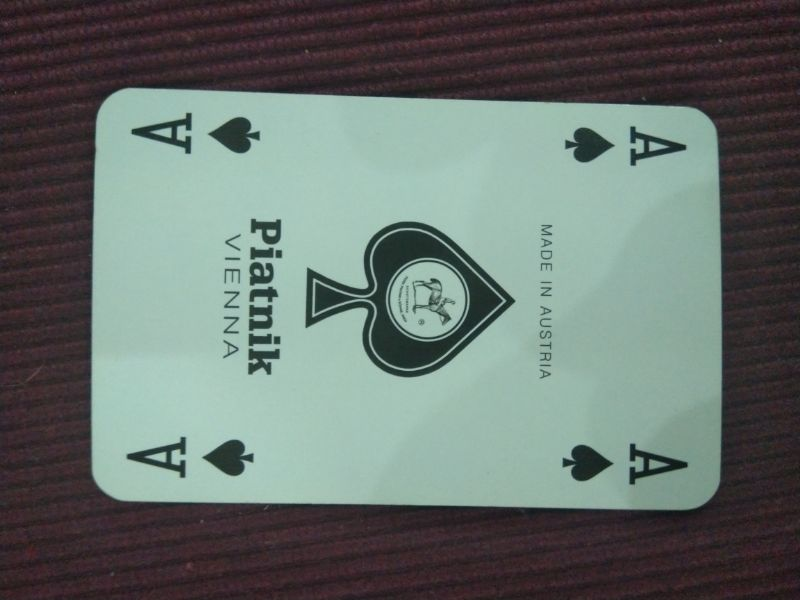As: (120, 430, 263, 483), (126, 108, 268, 160), (557, 435, 692, 489), (559, 120, 691, 172)
